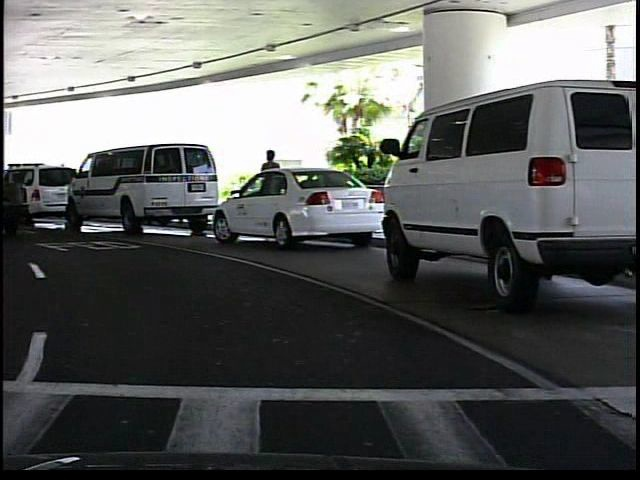person: (257, 144, 285, 226)
